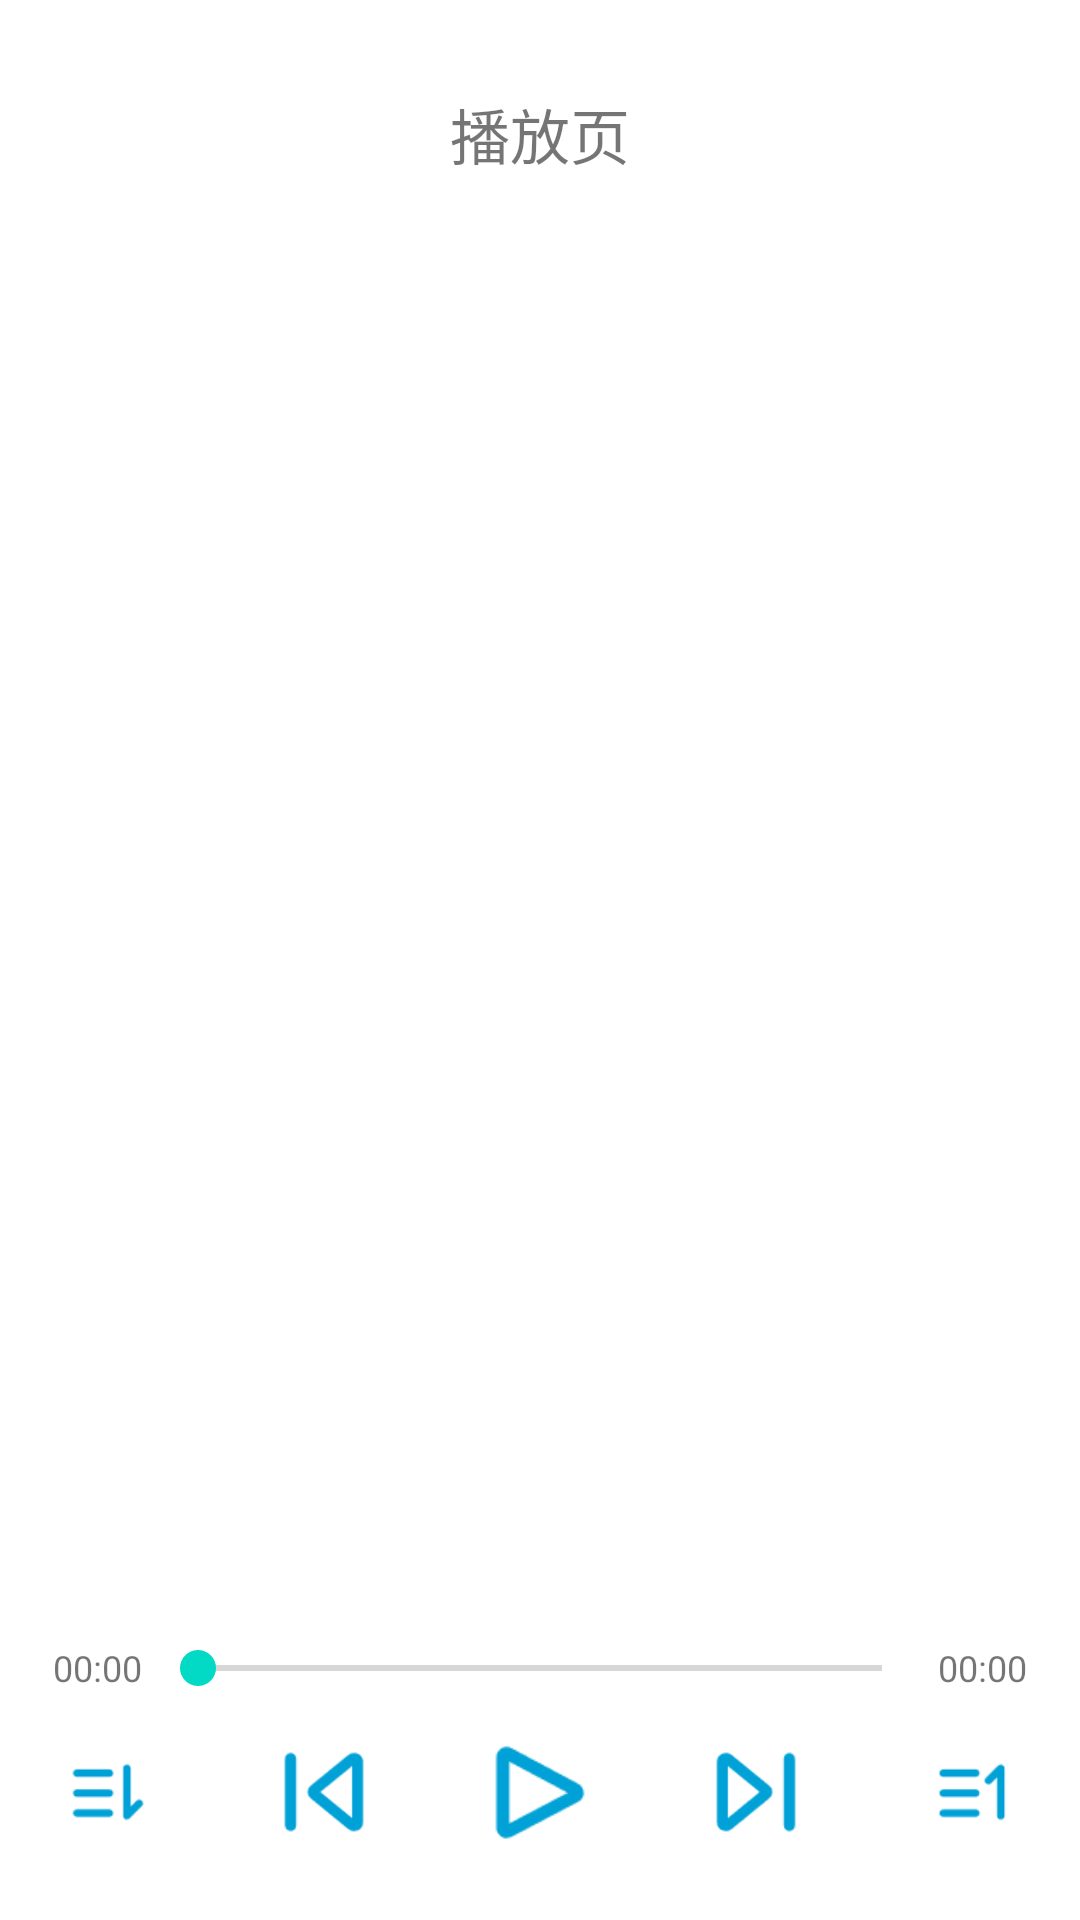

Named icons in this screenshot (1080x1920) and their bounding boxes, (x1, y1, x2, y2):
ascending: (939, 1764, 1005, 1821)
descending: (72, 1764, 144, 1821)
next: (716, 1752, 796, 1832)
play: (495, 1746, 585, 1839)
previous: (284, 1752, 364, 1832)
